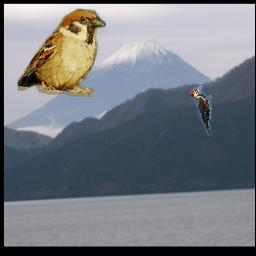Sparrow: (18, 9, 106, 98)
Woodpecker: (190, 84, 212, 137)
